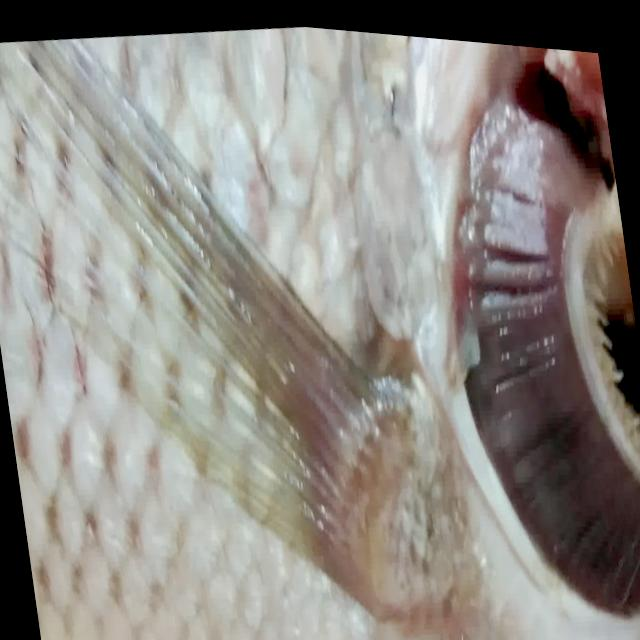Non-Fresh: (421, 83, 640, 635)
